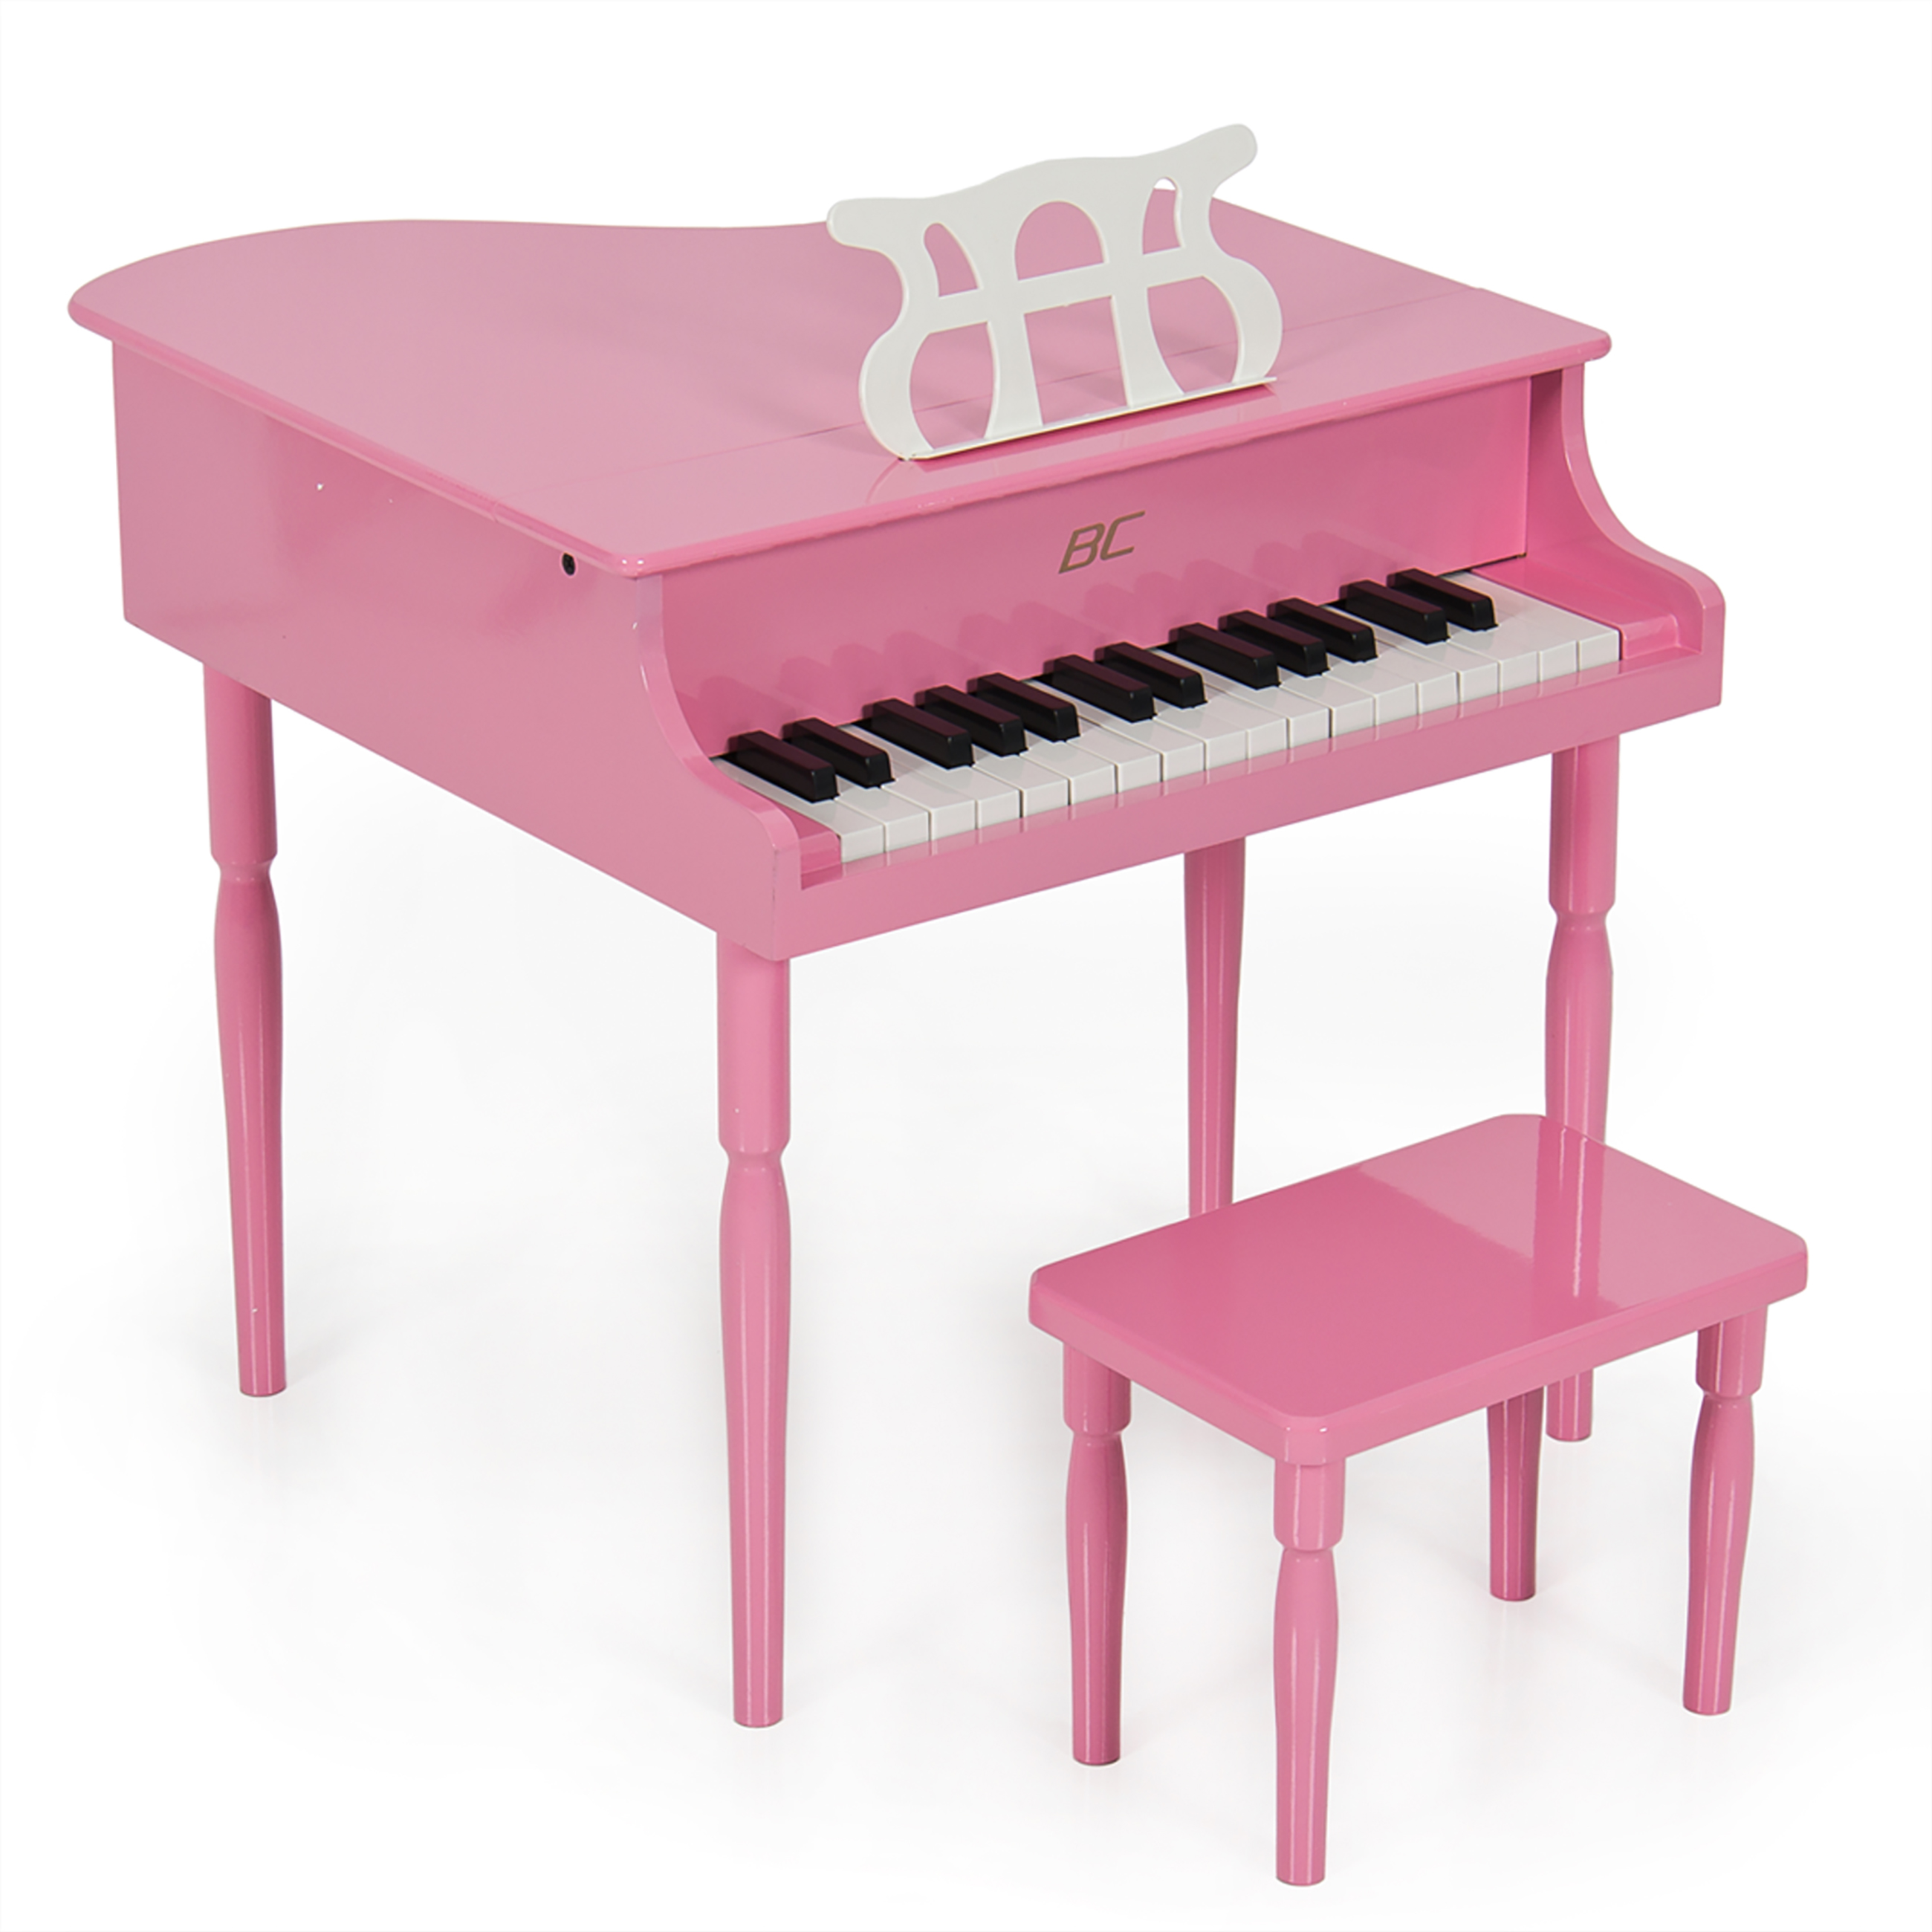GrandPiano: (106, 196, 1801, 870)
